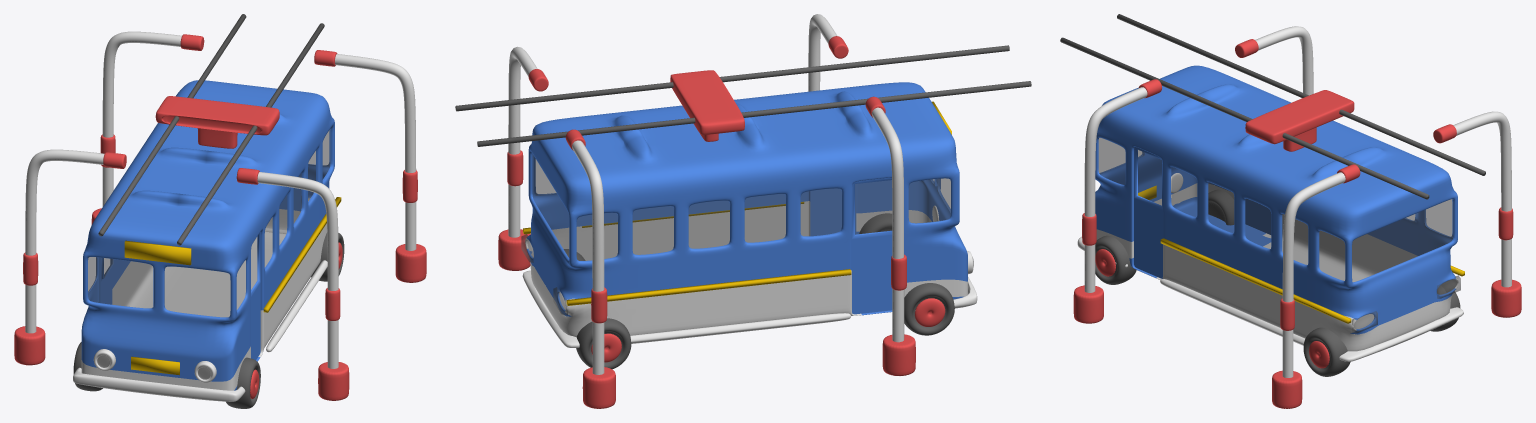
File: trolleybus-3d-animated-icon-1669377934309.glb
The picture shows the model from 3 angles, left to right: view 1: azimuth 30°, elevation 25°; view 2: azimuth 150°, elevation 25°; view 3: azimuth 270°, elevation 25°; orthographic projection. The views are drawn at different scales.
Parts seen in each view (by area): view 1: body, glass, trail up, pole, pole.002, pole.004, pole.005, door, tire.004, lamp, plate, tire.005; view 2: body, glass, trail up, door, pole.005, pole.004, pole.002, tire.006, tire.007, pole, lamp; view 3: body, glass, trail up, door, pole, pole.002, pole.005, tire.005, pole.004, tire.004, lamp, tire.006.
Part boxes in pixels (x1,y1,x2,y2): body: (73,80,341,401); glass: (88,129,330,316); trail up: (98,14,324,245); pole: (236,168,349,400); pole.002: (314,50,426,282); pole.004: (14,149,126,365); pole.005: (91,31,204,224); door: (100,232,260,360); tire.004: (226,357,260,408); lamp: (93,196,310,382); plate: (131,356,179,375); tire.005: (311,232,344,281); body: (522,82,977,347); glass: (532,154,950,260); trail up: (455,45,1031,146); door: (810,177,892,314); pole.005: (565,129,615,408); pole.004: (865,96,915,375); pole.002: (498,46,548,270); tire.006: (904,283,954,335); tire.007: (576,318,631,369); pole: (808,14,848,91); lamp: (521,205,973,315); body: (1077,65,1464,361); glass: (1098,138,1452,281); trail up: (1060,14,1485,199); door: (1134,147,1271,278); pole: (1073,79,1161,323); pole.002: (1272,164,1360,408); pole.005: (1433,111,1521,317); tire.005: (1303,327,1350,376); pole.004: (1235,26,1313,95); tire.004: (1095,235,1136,284); lamp: (1171,173,1460,333); tire.006: (1208,189,1234,225).
Size of what is drawn, in the model's own units: 3.2 by 1.61 by 3.18.
